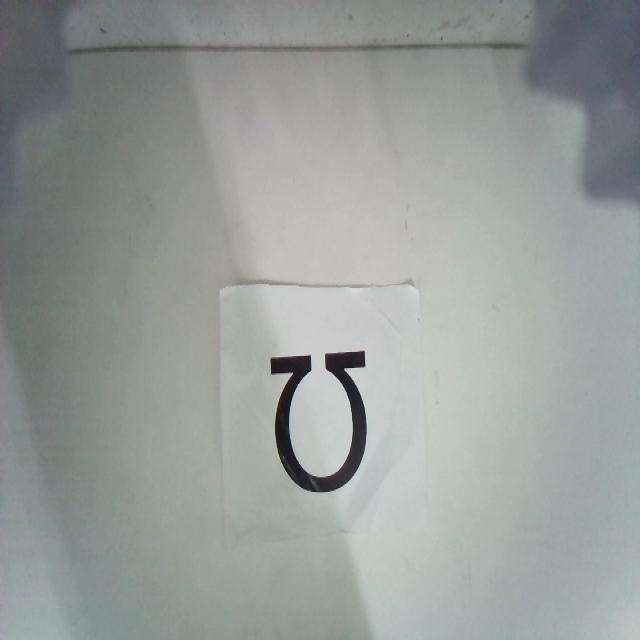OM: (269, 348, 370, 491)
